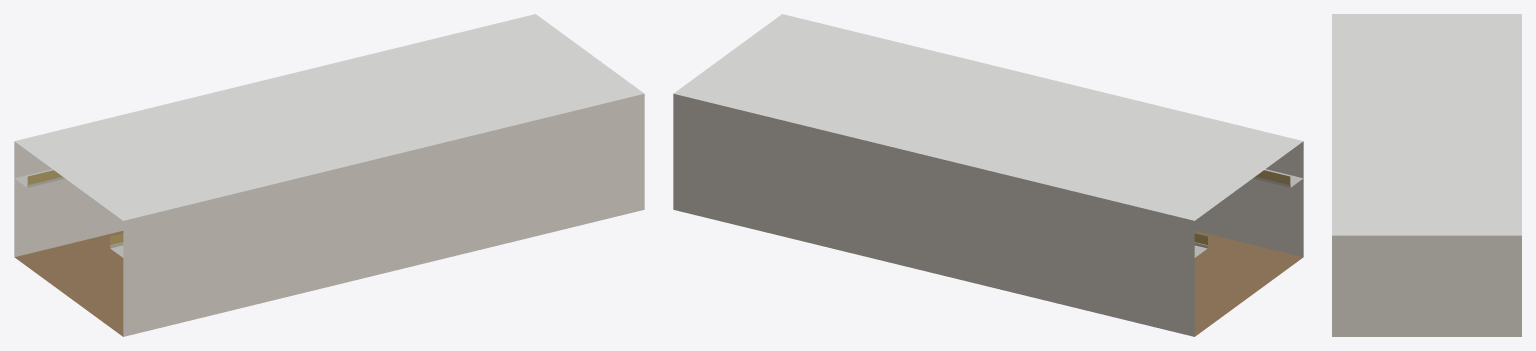
Rendered from st-george.glb.
3 renders of one model, left to right at view 1: azimuth 30°, elevation 25°; view 2: azimuth 150°, elevation 25°; view 3: azimuth 270°, elevation 25°, orthographic. The views are drawn at different scales.
Visible parts, largest first — view 1: wall-marble, ceiling, parquet, ornament-parquet; view 2: wall-marble, ceiling, parquet, ornament-parquet; view 3: ceiling, wall-marble.
Boxes of the visible parts, x1=… form: wall-marble: x1=14, y1=93, x2=644, y2=336; ceiling: x1=14, y1=14, x2=643, y2=220; parquet: x1=15, y1=231, x2=123, y2=336; ornament-parquet: x1=47, y1=253, x2=123, y2=318; wall-marble: x1=673, y1=93, x2=1303, y2=336; ceiling: x1=674, y1=14, x2=1303, y2=220; parquet: x1=1194, y1=231, x2=1302, y2=336; ornament-parquet: x1=1194, y1=253, x2=1270, y2=318; ceiling: x1=1332, y1=14, x2=1521, y2=235; wall-marble: x1=1332, y1=235, x2=1521, y2=336.
Size of the model in its own units: 47 by 10 by 17.
